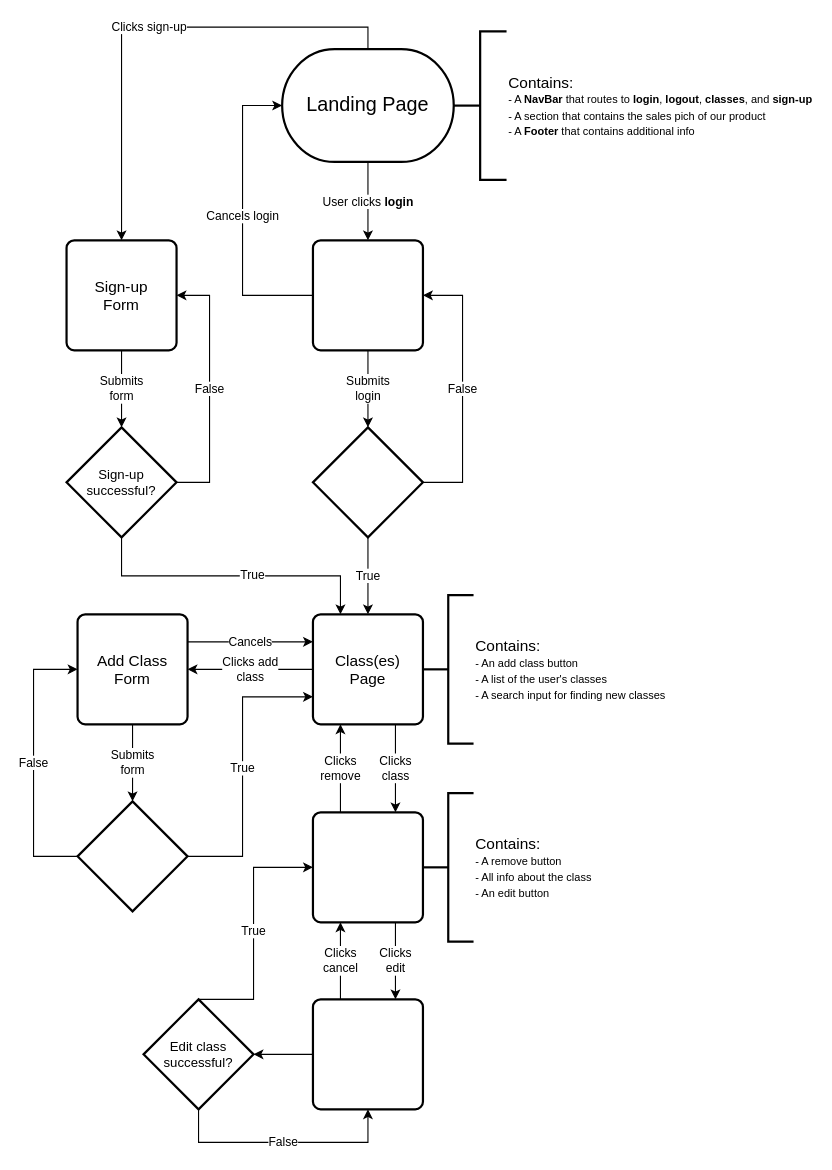
Some shapes in this 832 by 1170 pixel diagram are drawn without their labels. Each missing label, with the box of its shape:
Add class successful?: (76, 800, 188, 912)
Class Page: (311, 811, 424, 923)
Edit Class Form: (311, 998, 424, 1110)
Login Form: (311, 239, 424, 351)
Login succesful?: (311, 426, 424, 538)
